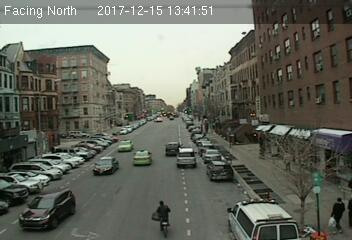bicycle: (151, 199, 174, 238)
car: (20, 191, 78, 229), (204, 160, 233, 182), (93, 156, 119, 174), (175, 146, 196, 166), (132, 149, 152, 165), (202, 150, 222, 163), (116, 139, 134, 151), (165, 142, 181, 155)
pedestrian: (327, 196, 344, 236)
police: (225, 197, 303, 240)
